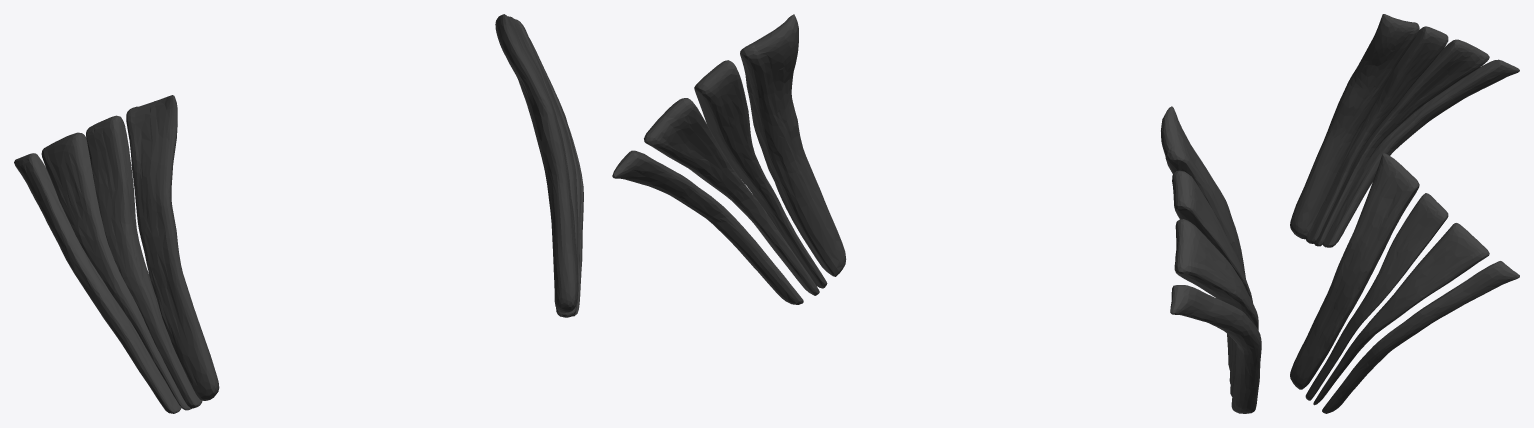
Rendered from m_sphincter_coli_profundus_palpebralis.glb.
3 renders of one model, left to right at view 1: azimuth 30°, elevation 25°; view 2: azimuth 150°, elevation 25°; view 3: azimuth 270°, elevation 25°, orthographic. The views are drawn at different scales.
Parts seen in each view (by area): view 1: m_sphincter_coli_profundus_palpebralis; view 2: m_sphincter_coli_profundus_palpebralis; view 3: m_sphincter_coli_profundus_palpebralis.
Part boxes in pixels (bbox=[...]): m_sphincter_coli_profundus_palpebralis: bbox=[14, 14, 583, 413]; m_sphincter_coli_profundus_palpebralis: bbox=[612, 14, 1261, 413]; m_sphincter_coli_profundus_palpebralis: bbox=[1290, 14, 1519, 413].
Size of the model in its own units: 0.00271 by 0.00147 by 0.00124.
Materials: 1 (1 with a texture image).
